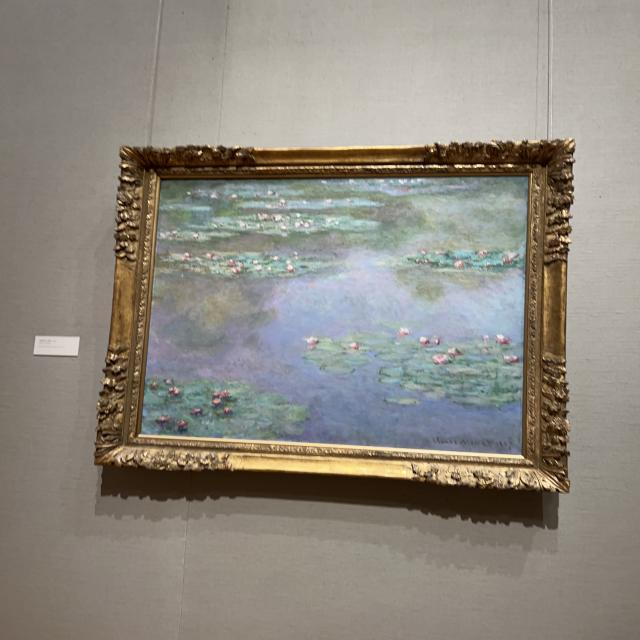lilies: (141, 178, 527, 453)
